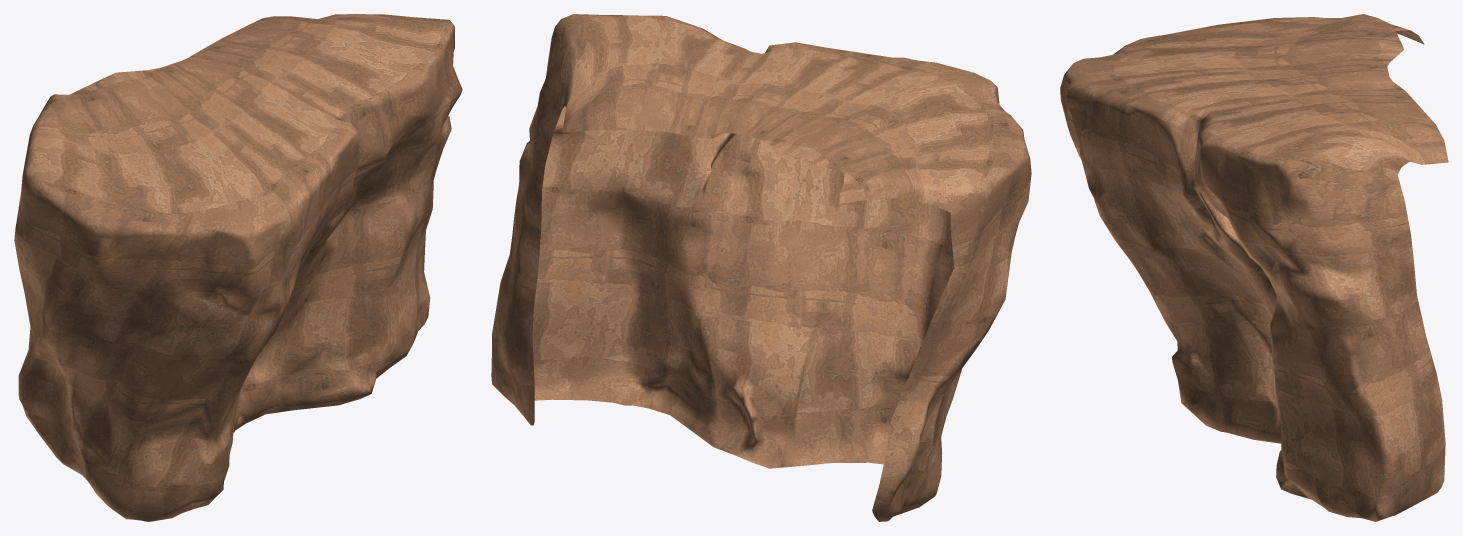
File: Ob_RockCliff21.fbx
3 views of the same model, side by side, from view 1: azimuth 30°, elevation 25°; view 2: azimuth 150°, elevation 25°; view 3: azimuth 270°, elevation 25° (orthographic). The views are drawn at different scales.
Visible parts, largest first — view 1: Ob_RockCliff21; view 2: Ob_RockCliff21; view 3: Ob_RockCliff21.
Part boxes in pixels (bbox=[...]): Ob_RockCliff21: bbox=[14, 14, 462, 521]; Ob_RockCliff21: bbox=[491, 14, 1031, 521]; Ob_RockCliff21: bbox=[1060, 14, 1448, 521].
Bounding box in the file's own units: 29776 × 26036 × 21813.
